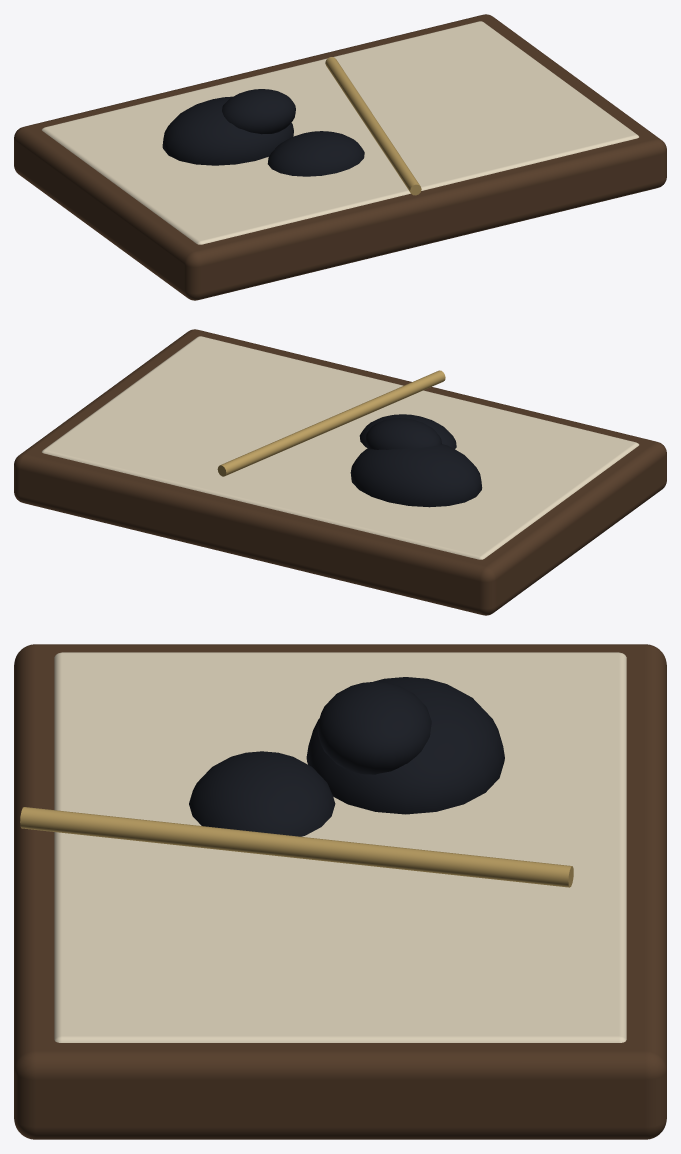
The model's file is atelier-decor-zen-heritage.glb.
3 views of the same model, one above another, from view 1: azimuth 30°, elevation 25°; view 2: azimuth 150°, elevation 25°; view 3: azimuth 270°, elevation 25° (orthographic). The views are drawn at different scales.
Bounding box in the file's own units: 0.23 × 0.0451 × 0.15.
